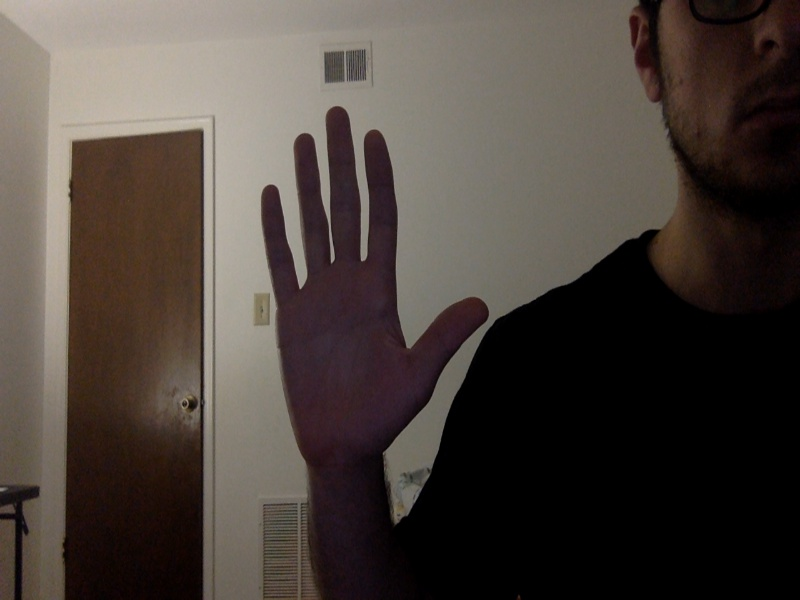5-hand: (259, 106, 488, 456)
